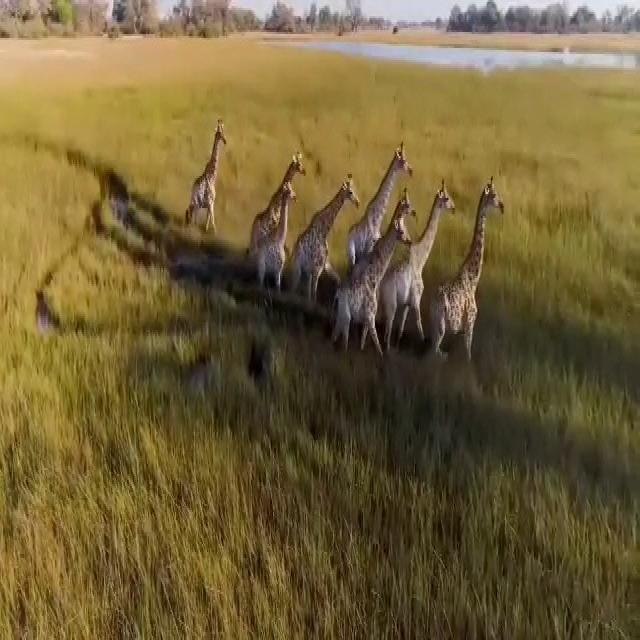Girraffe: (347, 122, 413, 378), (382, 158, 448, 375), (436, 176, 503, 380), (297, 173, 357, 311), (254, 155, 307, 271), (189, 111, 227, 246), (259, 182, 295, 292)
